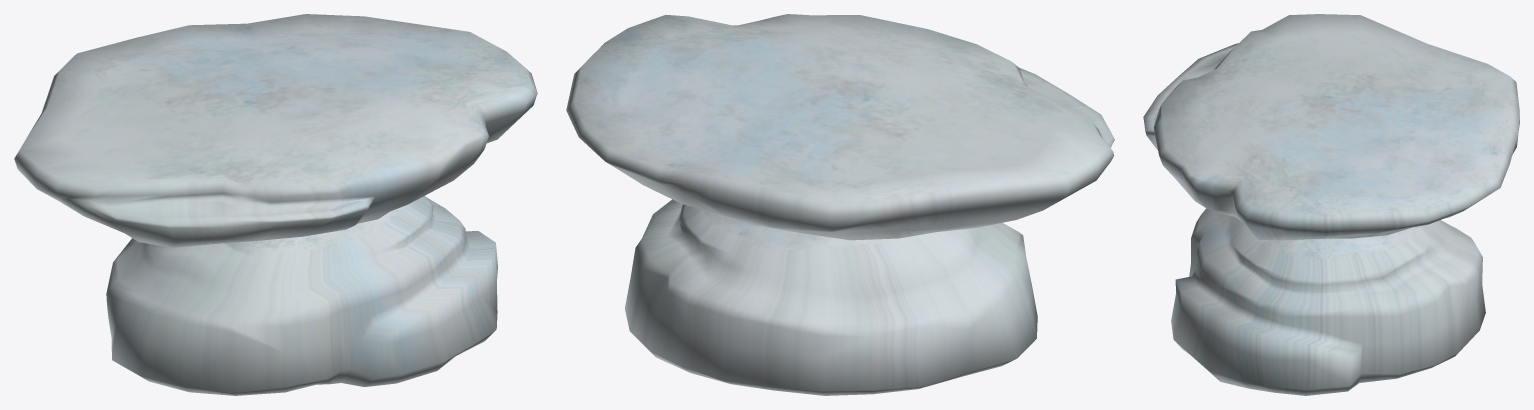
File: P_RockDesert_Platform04.obj
3 renders of one model, left to right at view 1: azimuth 30°, elevation 25°; view 2: azimuth 150°, elevation 25°; view 3: azimuth 270°, elevation 25°, orthographic. The views are drawn at different scales.
Size of the model in its own units: 43.22 by 21.93 by 33.15.
